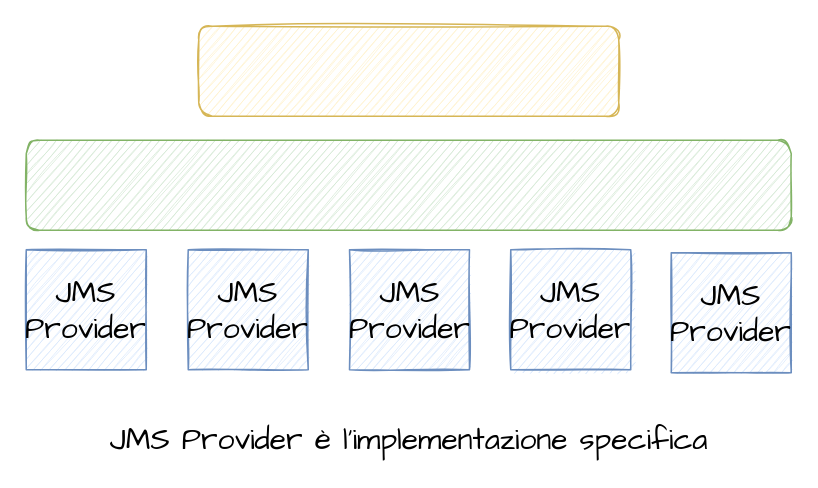
This 818x488 diagram has some shape labels left out. Each missing label, with the box of its shape:
Java Application: (197, 25, 619, 116)
JMS API: (25, 139, 791, 230)
